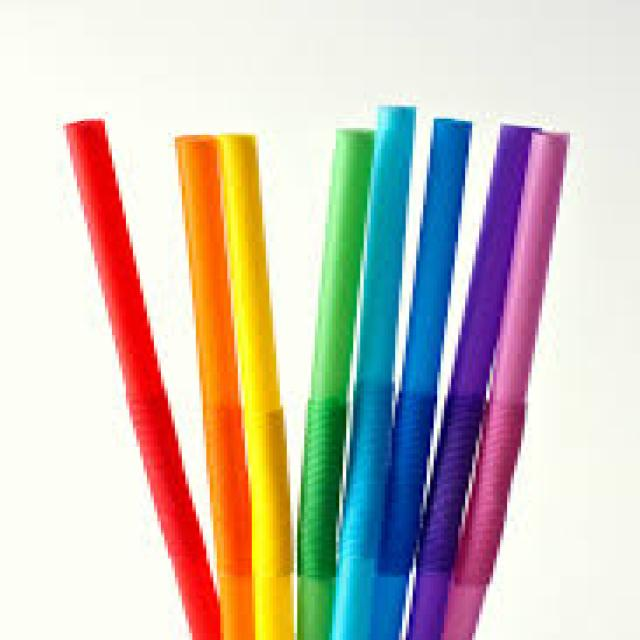plastic: (52, 91, 182, 640)
